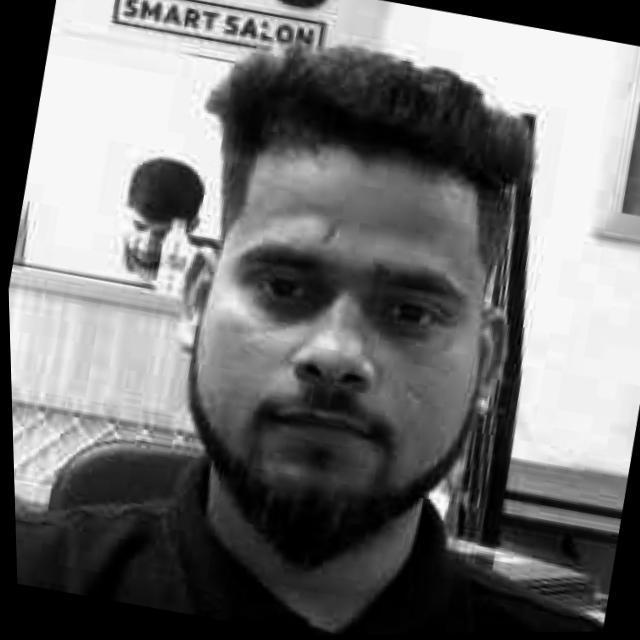puffy_eyes: (365, 310, 441, 348), (259, 292, 333, 321)
